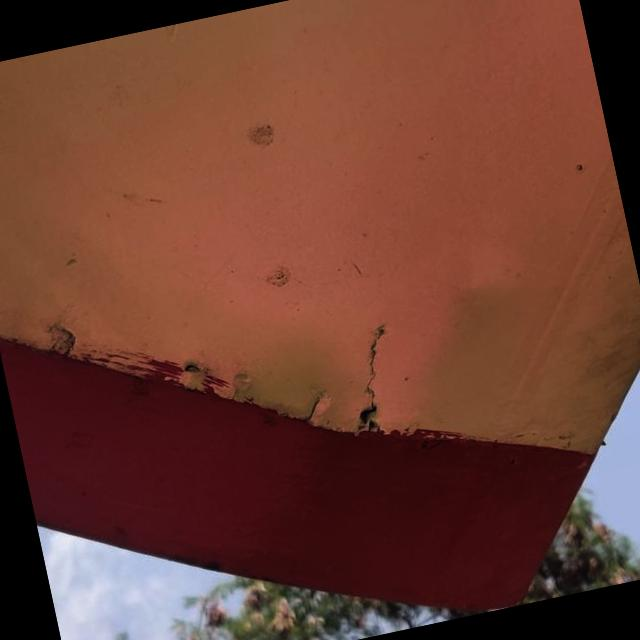crack: (331, 314, 416, 444), (289, 382, 335, 432)
